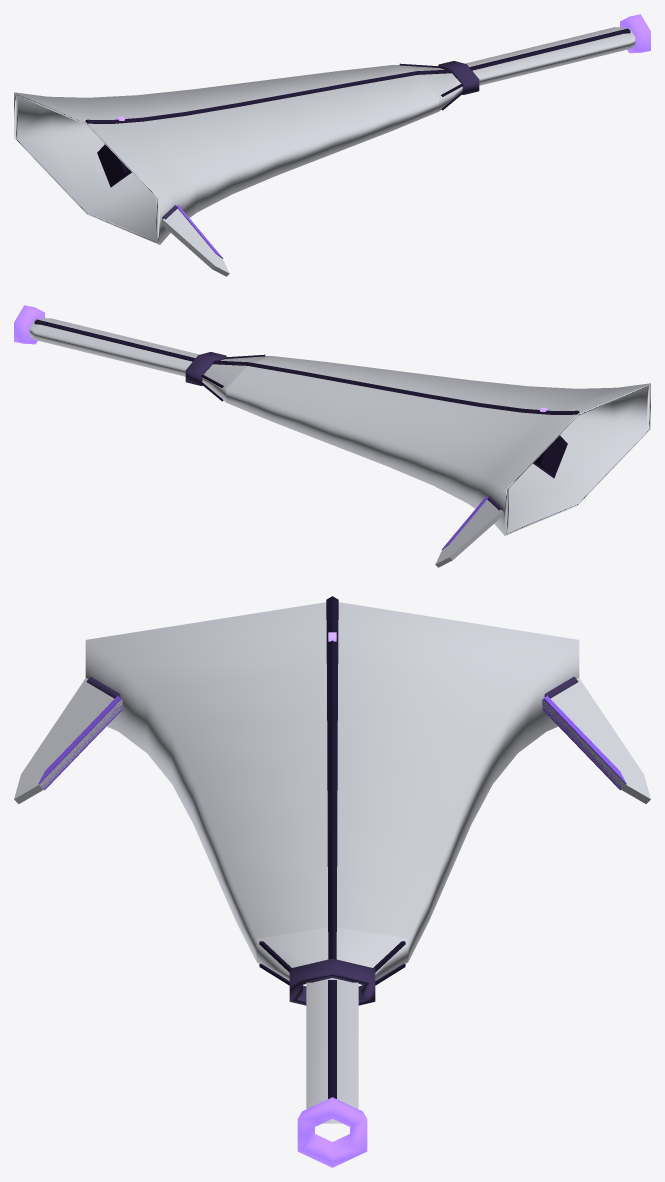
File: tocsin-hadron.glb
3 views of the same model, one above another, from view 1: azimuth 30°, elevation 25°; view 2: azimuth 150°, elevation 25°; view 3: azimuth 270°, elevation 25° (orthographic). The views are drawn at different scales.
Parts seen in each view (by area): view 1: bell_skirt, emitter_barrel, crystal_spine, brace_blade_s, bell_crown, emitter_rail, muzzle_collar, drive_prism, breech_collar; view 2: bell_skirt, emitter_barrel, crystal_spine, brace_blade_p, bell_crown, emitter_rail, muzzle_collar, drive_prism, breech_collar; view 3: bell_skirt, emitter_barrel, bell_crown, brace_blade_s, brace_blade_p, crystal_spine, muzzle_collar, breech_collar, brace_edge_p, brace_edge_s, emitter_rail.
Part boxes in pixels (box(x1,y1,x2,y2)): bell_skirt: box(14, 65, 438, 244); emitter_barrel: box(442, 27, 635, 85); crystal_spine: box(85, 69, 451, 123); brace_blade_s: box(161, 208, 229, 276); bell_crown: box(395, 65, 462, 111); emitter_rail: box(469, 28, 630, 70); muzzle_collar: box(620, 14, 650, 53); drive_prism: box(97, 144, 131, 187); breech_collar: box(438, 61, 479, 94); bell_skirt: box(226, 356, 650, 535); emitter_barrel: box(29, 318, 222, 376); crystal_spine: box(213, 360, 579, 414); brace_blade_p: box(435, 499, 503, 567); bell_crown: box(202, 356, 269, 402); emitter_rail: box(34, 319, 195, 361); muzzle_collar: box(14, 305, 44, 344); drive_prism: box(533, 435, 567, 478); breech_collar: box(185, 352, 226, 385); bell_skirt: box(85, 602, 579, 961); emitter_barrel: box(306, 978, 358, 1123); bell_crown: box(256, 927, 408, 980); brace_blade_s: box(14, 678, 122, 803); brace_blade_p: box(542, 678, 650, 803); crystal_spine: box(326, 596, 338, 959); muzzle_collar: box(297, 1097, 367, 1167); breech_collar: box(289, 958, 375, 1005); brace_edge_p: box(542, 695, 626, 790); brace_edge_s: box(38, 695, 122, 790); emitter_rail: box(328, 980, 336, 1098).
Bounding box in the file's own units: 105 × 18.2 × 61.91.
